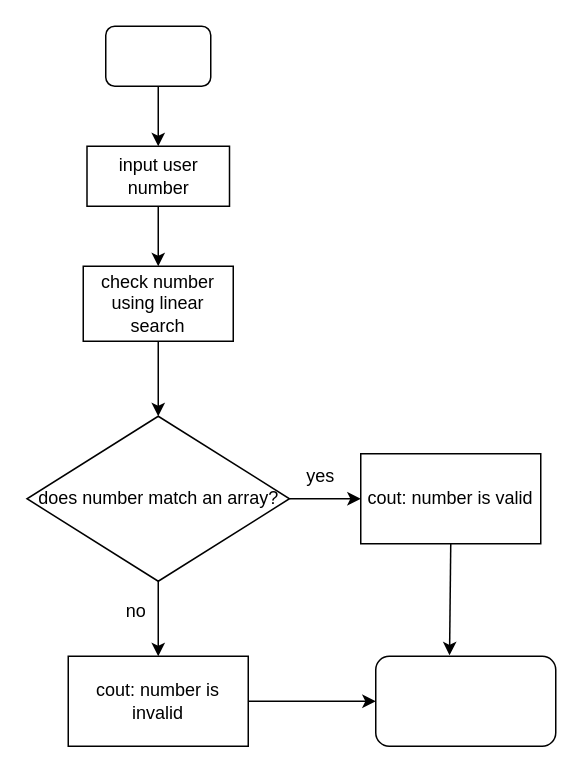
The diagram is 582 pixels wide and 773 high, and some of its shapes have lost their labels. Here are the shapes that lost their labels. From the top down, the box of each, then its label:
(104, 25, 211, 86): start
(374, 655, 556, 746): end
